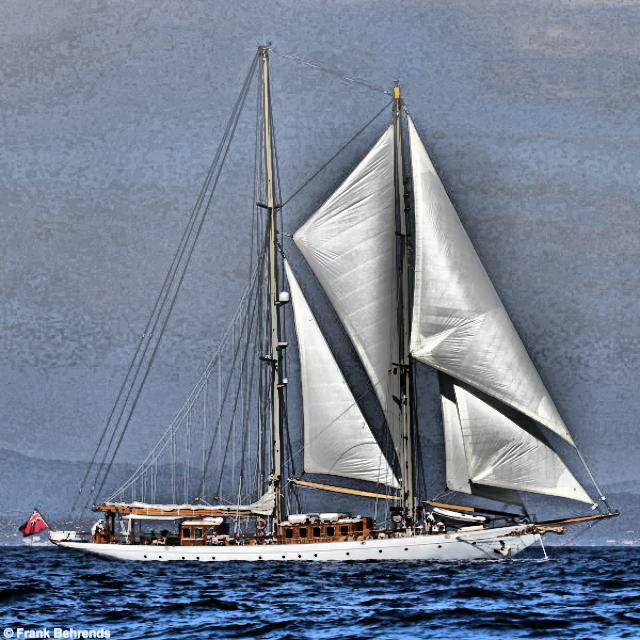sailing_vessel: (48, 44, 620, 566)
